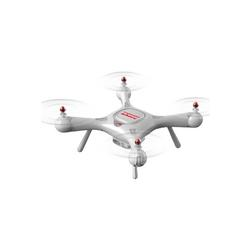drone: (41, 70, 215, 180)
